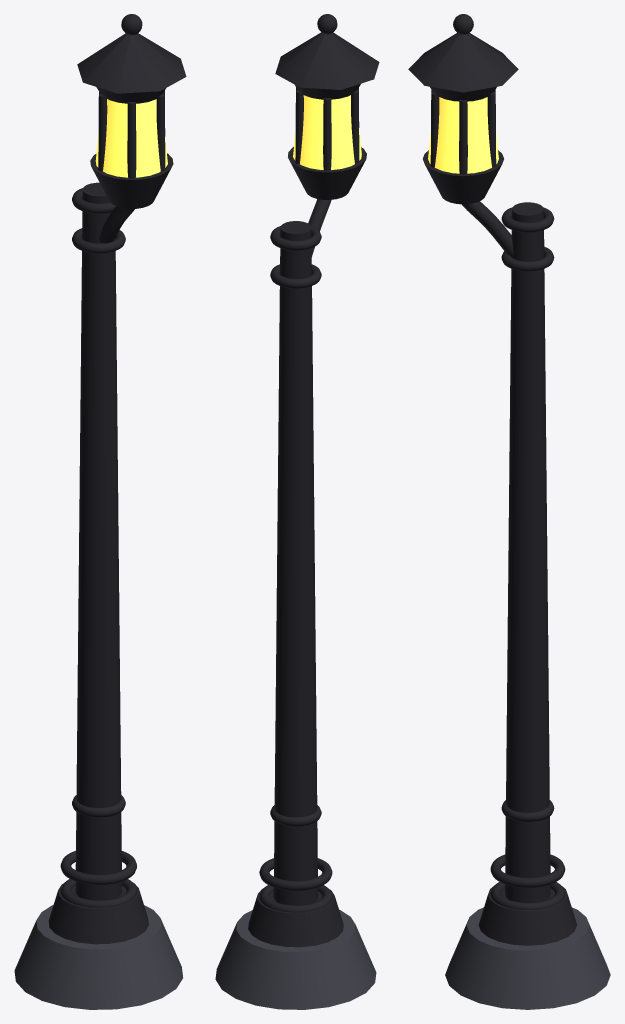
File: mia-lamp.glb
3 views of the same model, side by side, from view 1: azimuth 30°, elevation 25°; view 2: azimuth 150°, elevation 25°; view 3: azimuth 270°, elevation 25° (orthographic). The views are drawn at different scales.
Visible parts, largest first — view 1: Body_iron, Body_stone, Body_amber; view 2: Body_iron, Body_stone, Body_amber; view 3: Body_iron, Body_stone, Body_amber.
Part boxes in pixels (x1,y1,x2,y2): Body_iron: [48, 14, 186, 944]; Body_stone: [14, 905, 183, 1009]; Body_amber: [95, 99, 167, 177]; Body_iron: [248, 14, 379, 947]; Body_stone: [215, 909, 376, 1009]; Body_amber: [293, 95, 361, 169]; Body_iron: [408, 14, 576, 945]; Body_stone: [445, 907, 610, 1009]; Body_amber: [428, 97, 498, 173].
Bounding box in the file's own units: 0.54 × 3.45 × 0.66.
